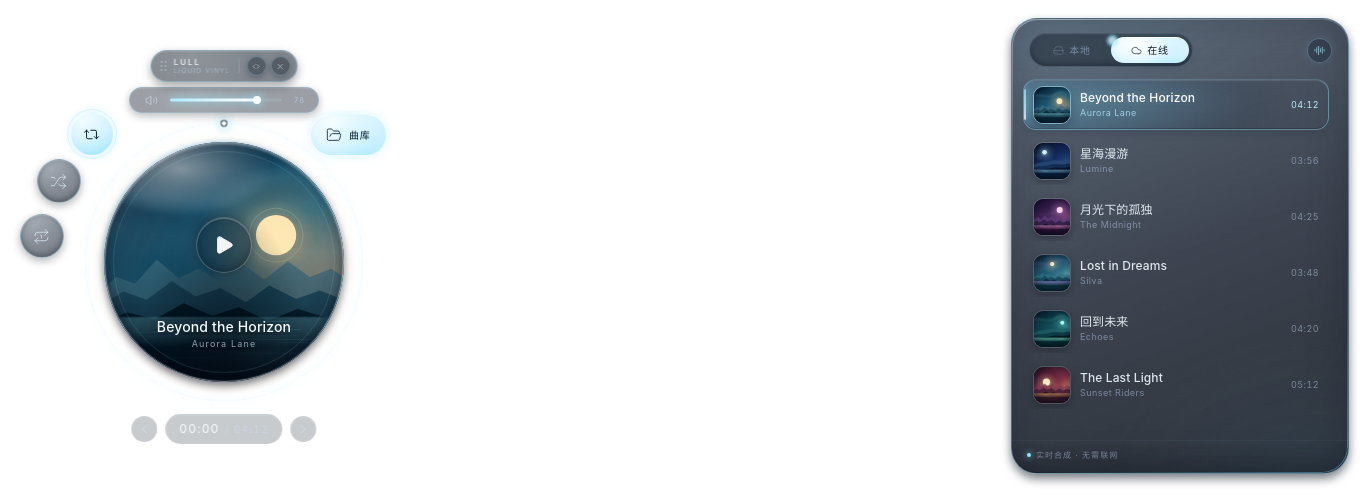
Test: 切到本地来源时展示空态与导入入口
Click the tab "本地". click: (1072, 50)
box: [1033,37,1111,63]
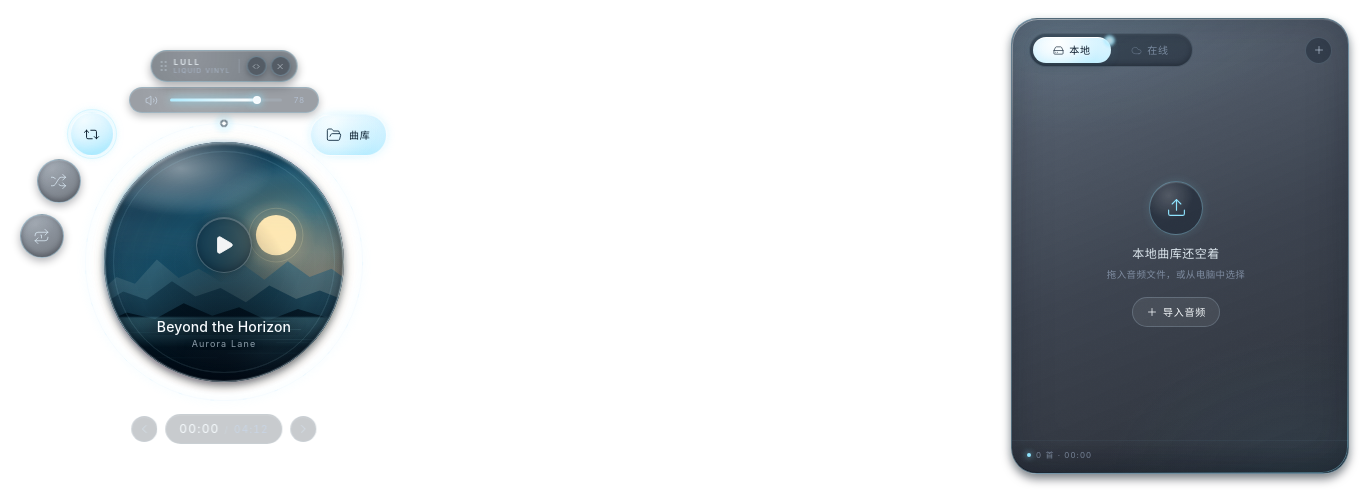
Check: the text "本地曲库还空着" is shown, box [1132,245,1220,263]
Check: the button "导入音频" is shown, box [1132,297,1220,327]
Check: the button named "添加本地音频" is shown, box [1305,36,1332,64]
